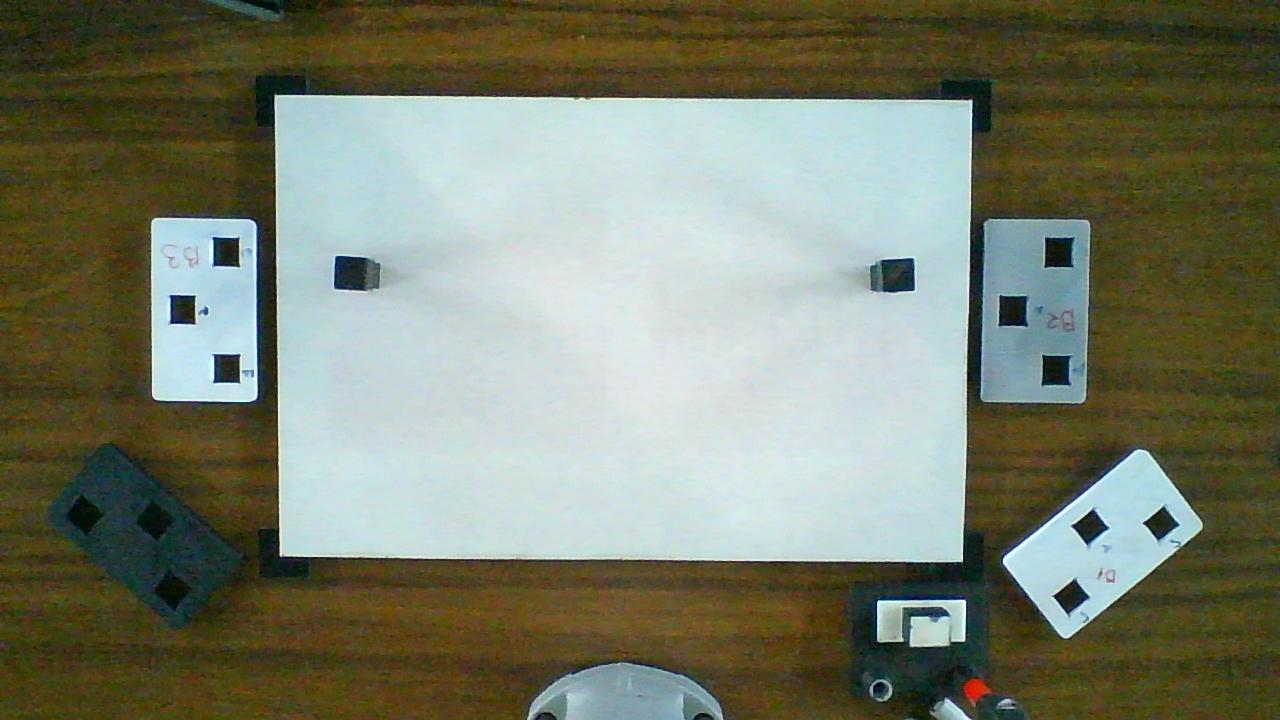peca_preta: (882, 260, 915, 291), (335, 257, 365, 289)
